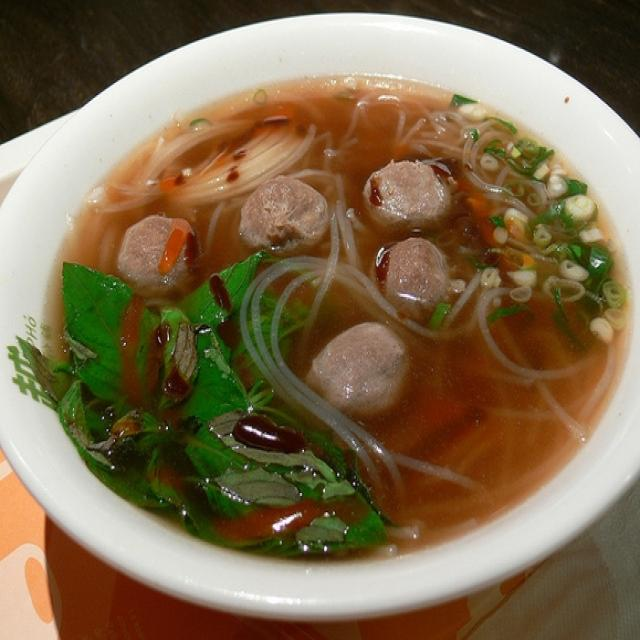面条主食: (16, 24, 631, 604)
